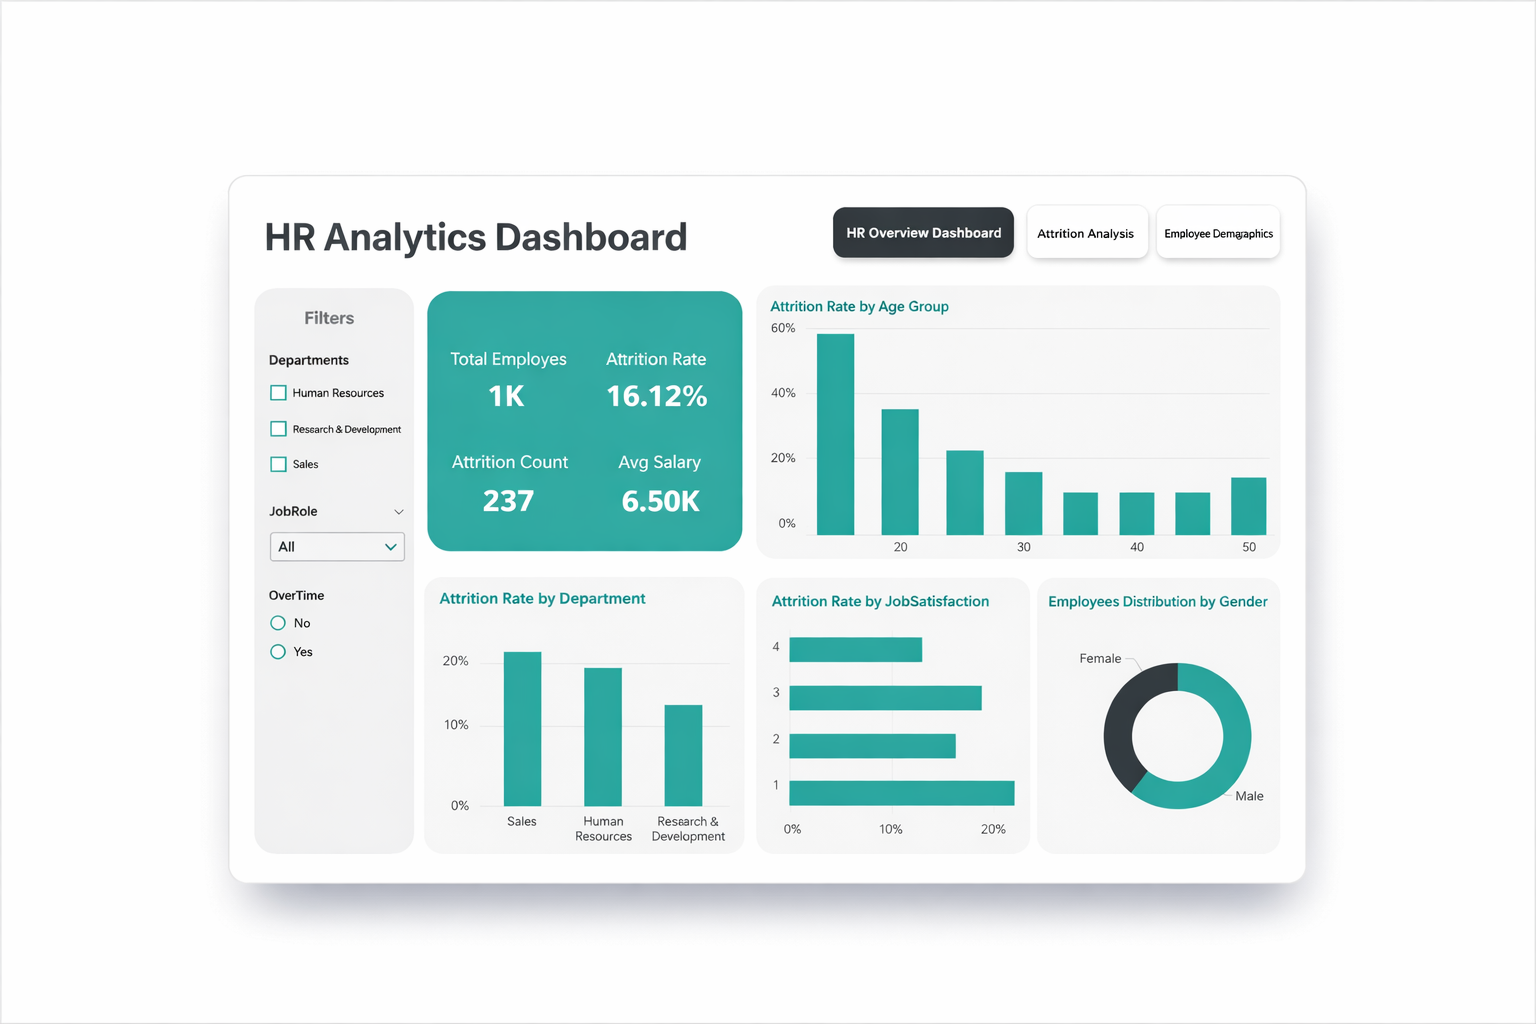

Layout of this report page (visuals, bound fields, positions):
{"tool":"powerbi","page":{"name":"HR Overview Dashboard","canvas":[1280,685],"ordinal":0},"visuals":[{"type":"shape","box":[577.1,111.4,690,302.9],"z":0},{"type":"shape","box":[204.3,112.9,358.6,302.9],"z":1000,"group":"g2"},{"type":"shape","box":[204.3,425.7,1062.9,251.4],"z":1000},{"type":"columnChart","fields":{"Category":["Clean_HR_IBM_dataset.Department"],"Y":["Clean_HR_IBM_dataset.Attrition Rate"]},"box":[225.7,425.7,351.4,251.4],"z":2000},{"type":"barChart","fields":{"Category":["Clean_HR_IBM_dataset.JobSatisfaction"],"Y":["Clean_HR_IBM_dataset.Attrition Rate"]},"box":[591.4,425.7,404.3,251.4],"z":3000},{"type":"shape","box":[0,0,1280,95.7],"z":4000},{"type":"textbox","title":"HR Analytics Dashboard","box":[23.3,23.3,540,50],"z":5000},{"type":"donutChart","title":"Employees Distribution by Gender","fields":{"Y":["Clean_HR_IBM_dataset.Total Employees"],"Category":["Clean_HR_IBM_dataset.Gender"]},"box":[995.7,425.7,260,251.4],"z":6000},{"type":"group","id":"g1","title":"Group 1","box":[0,111.4,197.1,572.9],"z":7000},{"type":"shape","box":[0,111.4,197.1,572.9],"z":7000,"group":"g1"},{"type":"group","id":"g2","title":"Group 2","box":[204.3,112.9,358.6,302.9],"z":8000},{"type":"columnChart","title":"Attrition Rate by Age Group","fields":{"Y":["Clean_HR_IBM_dataset.Attrition Rate"],"Category":["Clean_HR_IBM_dataset.Age (bins)"]},"box":[591.7,116.7,663.3,300],"z":9000},{"type":"cardVisual","fields":{"Data":["Clean_HR_IBM_dataset.Attrition Count"]},"box":[205.7,271.5,170,104.3],"z":9000,"group":"g2"},{"type":"pageNavigator","box":[640,12.9,600,71.4],"z":10000},{"type":"cardVisual","fields":{"Data":["Clean_HR_IBM_dataset.Attrition Rate"]},"box":[375.7,165.8,167.1,97.1],"z":10000,"group":"g2"},{"type":"cardVisual","fields":{"Data":["Clean_HR_IBM_dataset.Total Employees"]},"box":[205.7,165.8,170,97.1],"z":11000,"group":"g2"},{"type":"listSlicer","fields":{"Values":["Clean_HR_IBM_dataset.Department"]},"box":[12.9,188.6,170,158.6],"z":11000},{"type":"cardVisual","fields":{"Data":["Clean_HR_IBM_dataset.Avg Salary"]},"box":[375.7,270,167.1,105.7],"z":12000,"group":"g2"},{"type":"slicer","title":"Job Role","fields":{"Values":["Clean_HR_IBM_dataset.JobRole"]},"box":[12.9,364.3,170,67.1],"z":12000},{"type":"listSlicer","fields":{"Values":["Clean_HR_IBM_dataset.OverTime"]},"box":[12.9,448.6,170,78.6],"z":13000},{"type":"textbox","title":"Filters","box":[12.9,134.3,144.3,21.4],"z":14000}]}

Visuals, with their boxes on the page's 1280x685 design canvas (x1, y1, x2, y2). These are canvas units, not pixel positions in the 1536x1024 screenshot, which may show the page scaled, cropped or inside an application window:
shape: 577:111:1267:414
shape: 204:113:563:416
shape: 204:426:1267:677
columnChart - Clean_HR_IBM_dataset.Department x Clean_HR_IBM_dataset.Attrition Rate: 226:426:577:677
barChart - Clean_HR_IBM_dataset.JobSatisfaction x Clean_HR_IBM_dataset.Attrition Rate: 591:426:996:677
shape: 0:0:1280:96
"HR Analytics Dashboard" textbox: 23:23:563:73
"Employees Distribution by Gender" donutChart: 996:426:1256:677
"Group 1" group: 0:111:197:684
shape: 0:111:197:684
"Group 2" group: 204:113:563:416
"Attrition Rate by Age Group" columnChart: 592:117:1255:417
cardVisual - Clean_HR_IBM_dataset.Attrition Count: 206:272:376:376
pageNavigator: 640:13:1240:84
cardVisual - Clean_HR_IBM_dataset.Attrition Rate: 376:166:543:263
cardVisual - Clean_HR_IBM_dataset.Total Employees: 206:166:376:263
listSlicer - Clean_HR_IBM_dataset.Department: 13:189:183:347
cardVisual - Clean_HR_IBM_dataset.Avg Salary: 376:270:543:376
"Job Role" slicer: 13:364:183:431
listSlicer - Clean_HR_IBM_dataset.OverTime: 13:449:183:527
"Filters" textbox: 13:134:157:156
